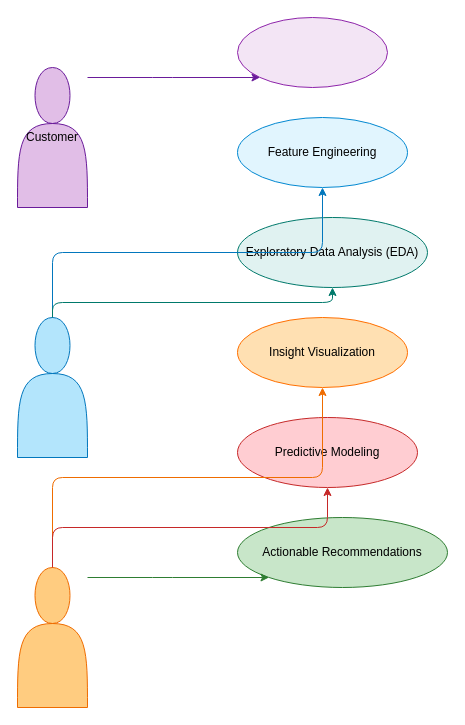
This 465x725 diagram has some shape labels left out. Here are the shapes that lost their labels. From the top down, the centre of each, then its label:
At (x=312, y=52): "Data Cleaning".
At (x=52, y=387): "Data Scientist".
At (x=52, y=637): "Business Stakeholder".
